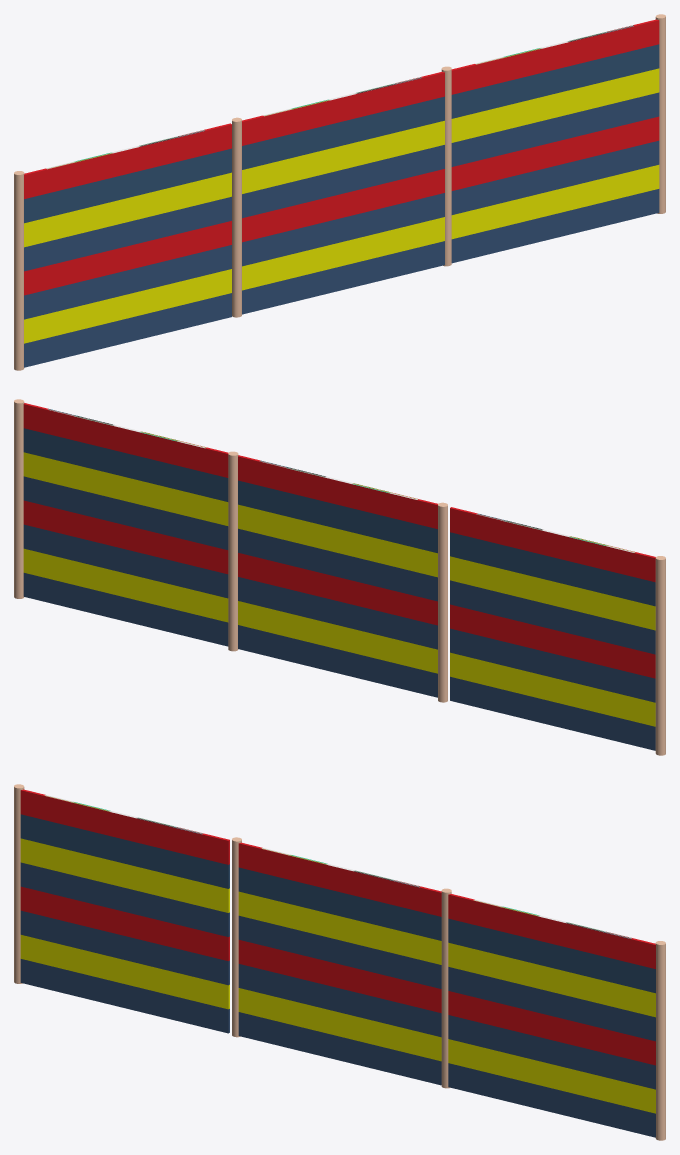
Rendered from Windbreak.fbx.
The picture shows the model from 3 angles, top to bottom: view 1: azimuth 30°, elevation 25°; view 2: azimuth 150°, elevation 25°; view 3: azimuth 330°, elevation 25°; orthographic projection.
Visible parts, largest first — view 1: Cylinder; view 2: Cylinder; view 3: Cylinder.
Boxes of the visible parts, bbox=[...] form: Cylinder: bbox=[14, 14, 665, 370]; Cylinder: bbox=[14, 399, 665, 755]; Cylinder: bbox=[14, 784, 665, 1140].
Bounding box in the file's own units: 1166 × 335 × 14.88.
